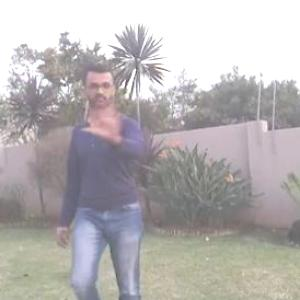follow_hand: (81, 98, 128, 146)
